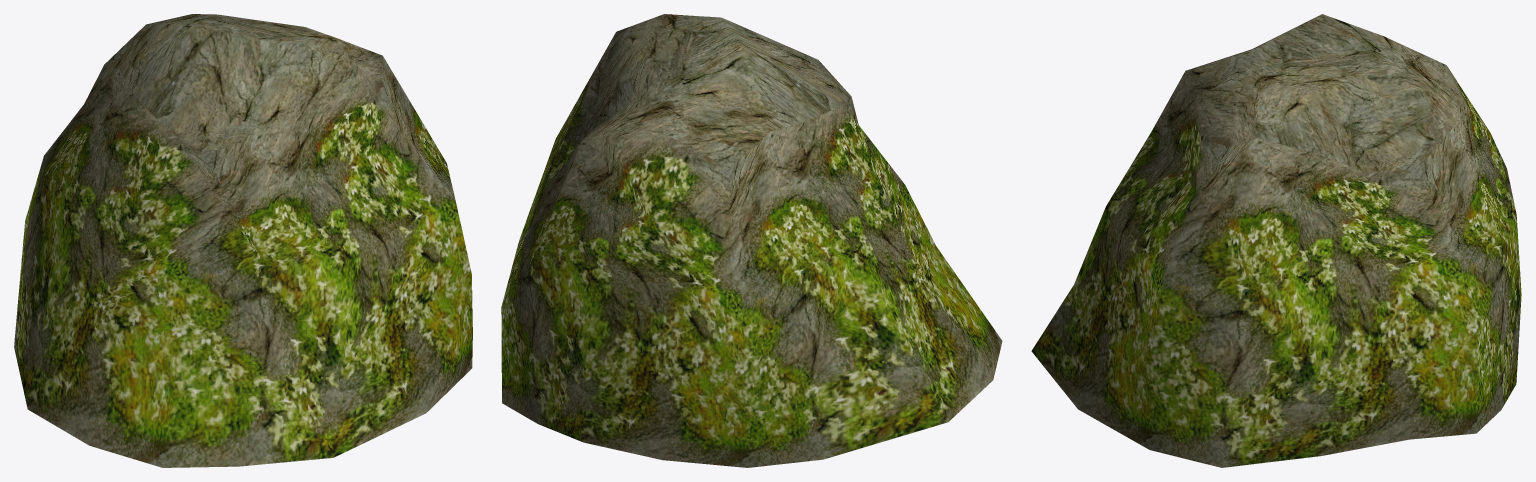
The model's file is rock_liaaba_covered_a1_l1.fbx.
3 views of the same model, side by side, from view 1: azimuth 30°, elevation 25°; view 2: azimuth 150°, elevation 25°; view 3: azimuth 270°, elevation 25° (orthographic). The views are drawn at different scales.
Parts seen in each view (by area): view 1: mesh_node; view 2: mesh_node; view 3: mesh_node.
Part boxes in pixels (bbox=[...]): mesh_node: bbox=[14, 14, 472, 467]; mesh_node: bbox=[501, 14, 1002, 467]; mesh_node: bbox=[1031, 14, 1521, 467].
Size of the model in its own units: 4.25 by 3.23 by 4.24.
